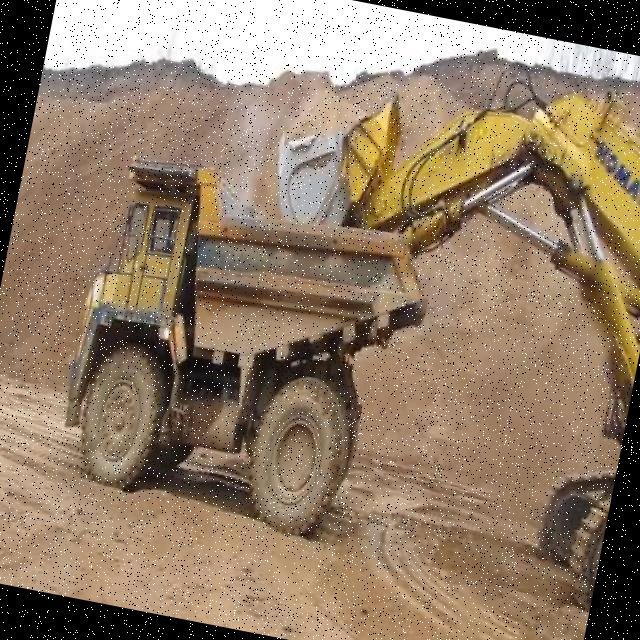Dump Truck: (45, 143, 448, 554)
Excavator: (200, 19, 640, 613)
